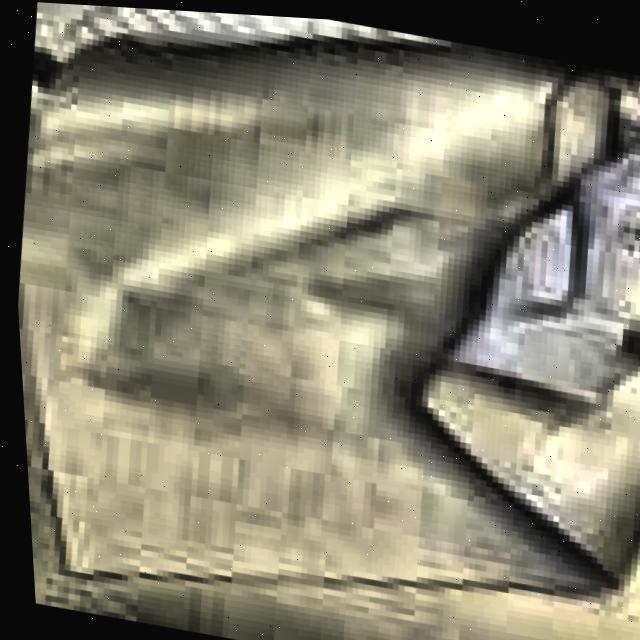paper: (14, 2, 640, 588)
